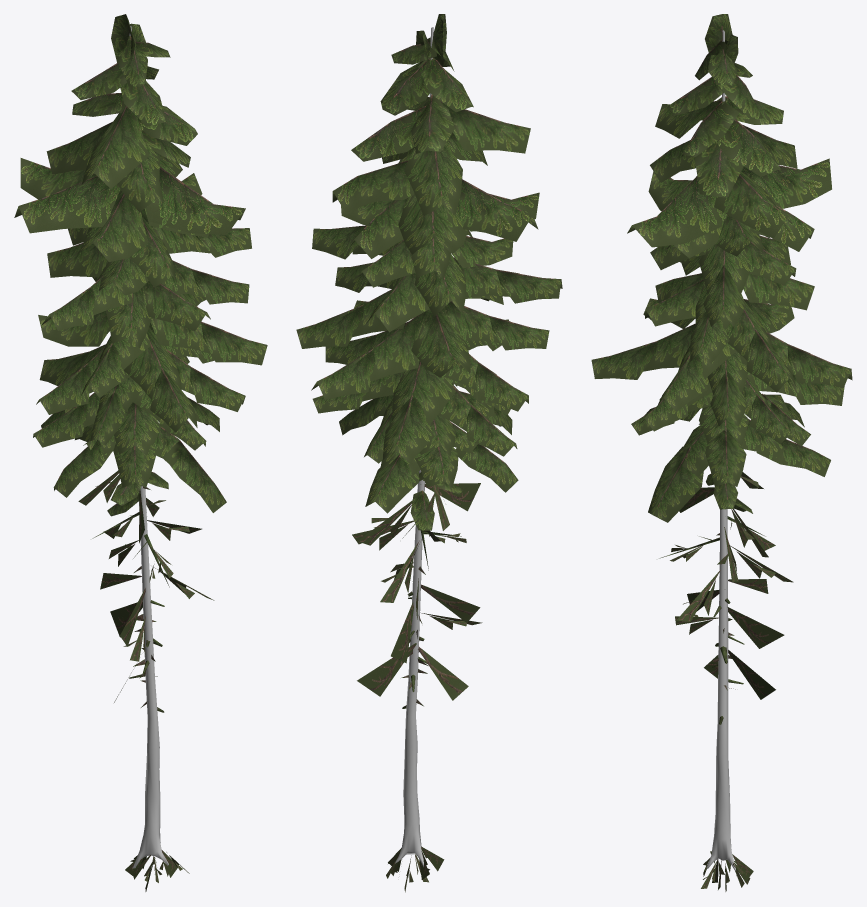
Rendered from SM_Pine01_lod2.obj.
3 views of the same model, side by side, from view 1: azimuth 30°, elevation 25°; view 2: azimuth 150°, elevation 25°; view 3: azimuth 270°, elevation 25° (orthographic).
Visible parts, largest first — view 1: SM_Pine01_lod2, SM_Pine01_lod2.001; view 2: SM_Pine01_lod2, SM_Pine01_lod2.001; view 3: SM_Pine01_lod2, SM_Pine01_lod2.001.
Part boxes in pixels (left/top/right/bottom): SM_Pine01_lod2: left=14, top=14, right=267, bottom=891; SM_Pine01_lod2.001: left=129, top=26, right=168, bottom=868; SM_Pine01_lod2: left=296, top=14, right=562, bottom=892; SM_Pine01_lod2.001: left=395, top=27, right=433, bottom=867; SM_Pine01_lod2: left=591, top=14, right=852, bottom=891; SM_Pine01_lod2.001: left=706, top=30, right=735, bottom=870.
Bounding box in the file's own units: 8.54 × 31.52 × 8.65.
